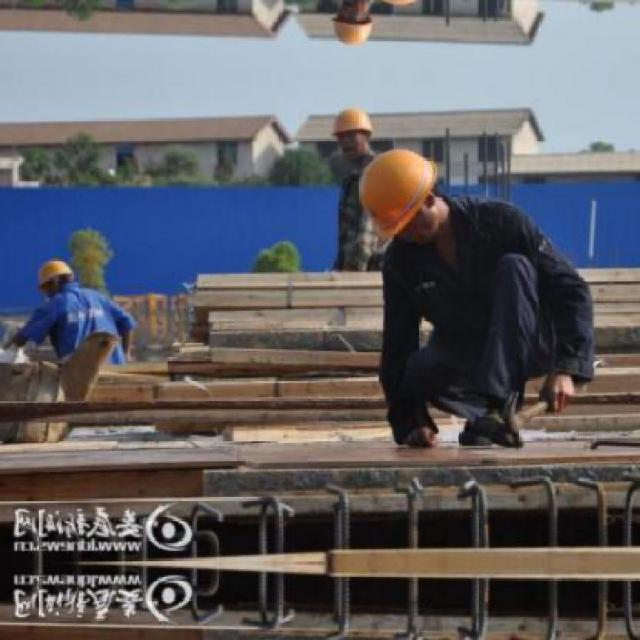helmet: (357, 146, 448, 237), (334, 105, 375, 157), (334, 0, 377, 48), (37, 254, 74, 298)
